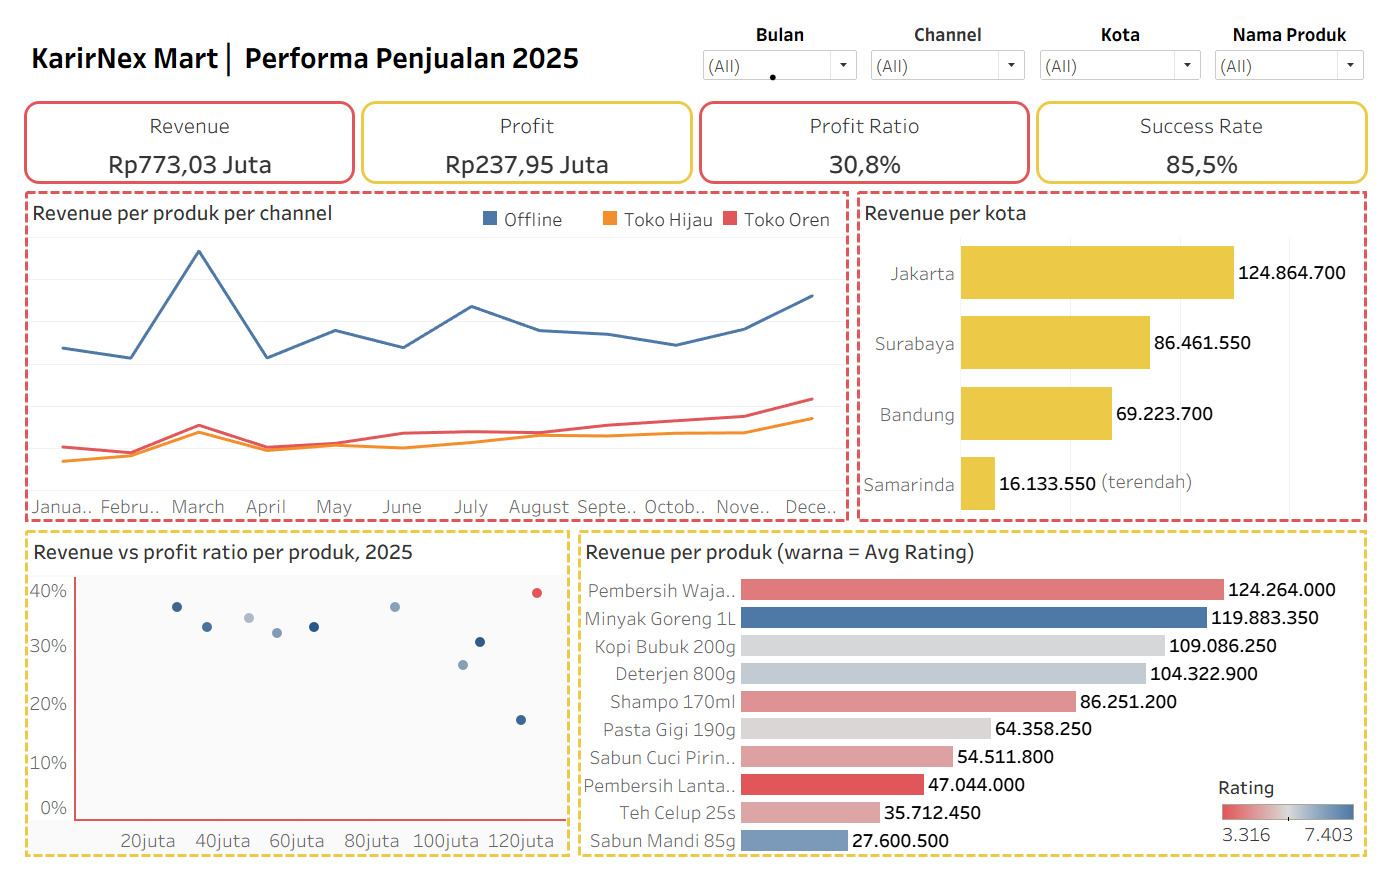

This screenshot's page, from the dashboard's own definition file:
{"tool":"tableau","page":{"name":"Dashboard 1","canvas":[1000,1000],"units":"permille","ordinal":0},"visuals":[{"type":"filter","title":"Revenue","param":"[federated.0h2ep7g1658rq41ble7ma0qbbdm3].[mn:Order Date:ok]","box":[500,9.9,123,94.1]},{"type":"filter","title":"Profit Ratio","param":"[federated.0h2ep7g1658rq41ble7ma0qbbdm3].[none:Channel:nk]","box":[623,9.9,123,94.1]},{"type":"filter","title":"Revenue","param":"[federated.0h2ep7g1658rq41ble7ma0qbbdm3].[none:City:nk]","box":[746.7,9.9,128.1,86.7]},{"type":"filter","title":"Revenue","param":"[federated.0h2ep7g1658rq41ble7ma0qbbdm3].[none:Product Name:nk]","box":[874.8,9.9,119.3,94.1]},{"type":"worksheet","title":"Revenue","mark":"Automatic","box":[5.9,104,247.1,102.9]},{"type":"worksheet","title":"Profit","mark":"Automatic","box":[252.9,104,247.1,102.9]},{"type":"worksheet","title":"Profit Ratio","mark":"Automatic","box":[500,104,247.1,102.9]},{"type":"worksheet","title":"Success Rate","mark":"Automatic","box":[747.1,104,247.1,102.9]},{"type":"legend","title":"Revenue per produk per channel","param":"[federated.0h2ep7g1658rq41ble7ma0qbbdm3].[none:Channel:nk]","box":[340.4,198.3,270.9,70.6]},{"type":"worksheet","title":"Revenue per produk per channel","mark":"Automatic","rows":["Calculation_0778241059381249"],"cols":["Order Date"],"box":[5.9,206.8,609.1,394.1]},{"type":"worksheet","title":"Revenue per kota","mark":"Automatic","rows":["City"],"cols":["Calculation_0778241059381249"],"box":[614.9,206.8,379.2,394.1]},{"type":"text","box":[793.6,524.2,79.1,48.3]},{"type":"worksheet","title":"Revenue vs profit ratio per produk, 2025","mark":"Circle","rows":["Calculation_0778241060233219"],"cols":["Calculation_0778241059381249"],"box":[5.9,600.9,404.8,389.2]},{"type":"worksheet","title":"Revenue per produk (warna = Avg Rating)","mark":"Automatic","rows":["Product Name"],"cols":["Calculation_0778241059381249"],"box":[410.7,600.9,583.5,389.2]},{"type":"legend","title":"Revenue per produk (warna = Avg Rating)","param":"[federated.0h2ep7g1658rq41ble7ma0qbbdm3].[sum:Rating:qk]","box":[882.1,889.7,102.5,85.5]}]}

Visuals, with their boxes on the dashboard's canvas, which has no fixed pixel size, in thousandths of its width and height (x1, y1, x2, y2). These are canvas units, not pixel positions in the 1393x876 screenshot, which may show the page scaled, cropped or inside an application window:
"Revenue" filter: (500, 10, 623, 104)
"Profit Ratio" filter: (623, 10, 746, 104)
"Revenue" filter: (747, 10, 875, 97)
"Revenue" filter: (875, 10, 994, 104)
"Revenue" worksheet: (6, 104, 253, 207)
"Profit" worksheet: (253, 104, 500, 207)
"Profit Ratio" worksheet: (500, 104, 747, 207)
"Success Rate" worksheet: (747, 104, 994, 207)
"Revenue per produk per channel" legend: (340, 198, 611, 269)
"Revenue per produk per channel" worksheet: (6, 207, 615, 601)
"Revenue per kota" worksheet: (615, 207, 994, 601)
text: (794, 524, 873, 572)
"Revenue vs profit ratio per produk, 2025" worksheet (Circle marks): (6, 601, 411, 990)
"Revenue per produk (warna = Avg Rating)" worksheet: (411, 601, 994, 990)
"Revenue per produk (warna = Avg Rating)" legend: (882, 890, 985, 975)
